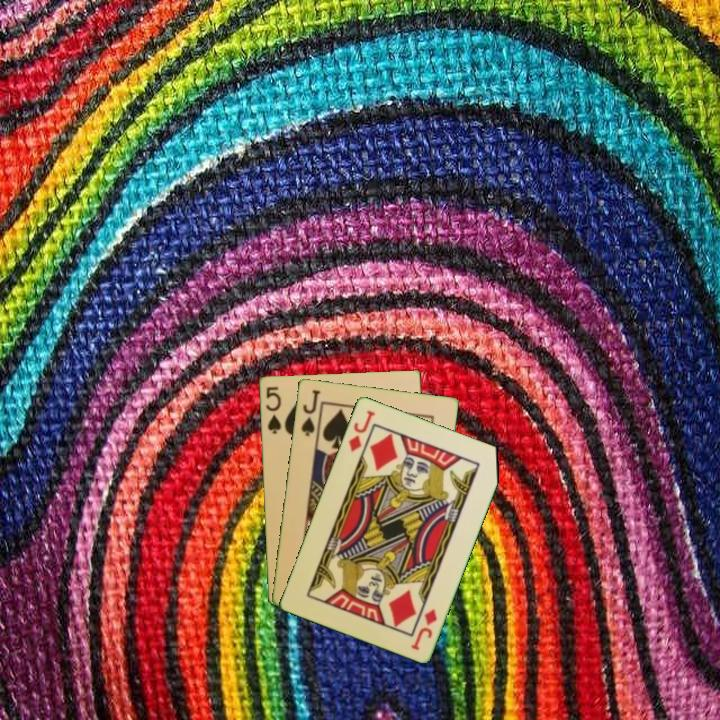5s: (262, 383, 284, 437)
Jd: (345, 406, 378, 454), (407, 605, 440, 653)
Js: (297, 386, 323, 439)
